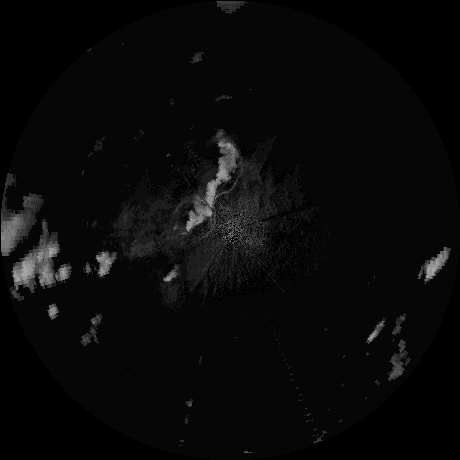frontgust: (216, 162, 243, 194), (197, 209, 217, 239), (170, 196, 190, 216)
